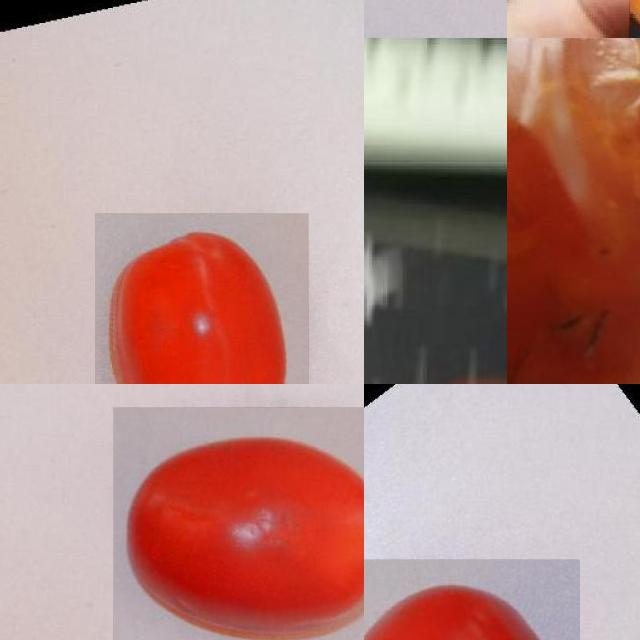Fresh Tomato: (113, 407, 364, 640), (95, 213, 309, 384), (364, 559, 580, 640)
Rotten Tomato: (507, 38, 640, 384)
